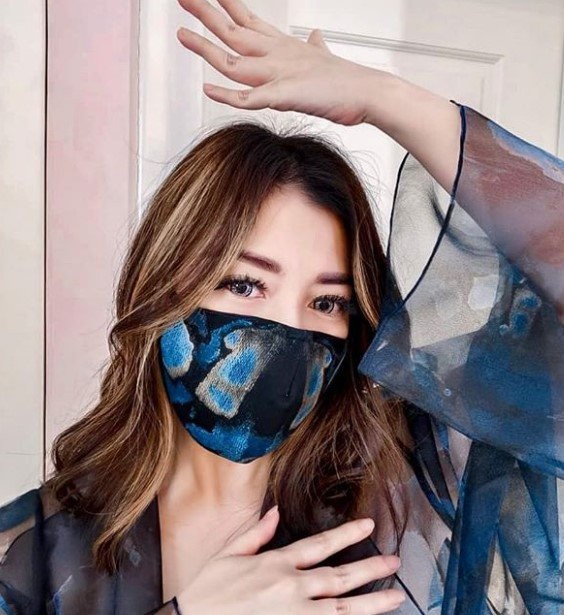face_with_mask: (145, 157, 395, 471)
